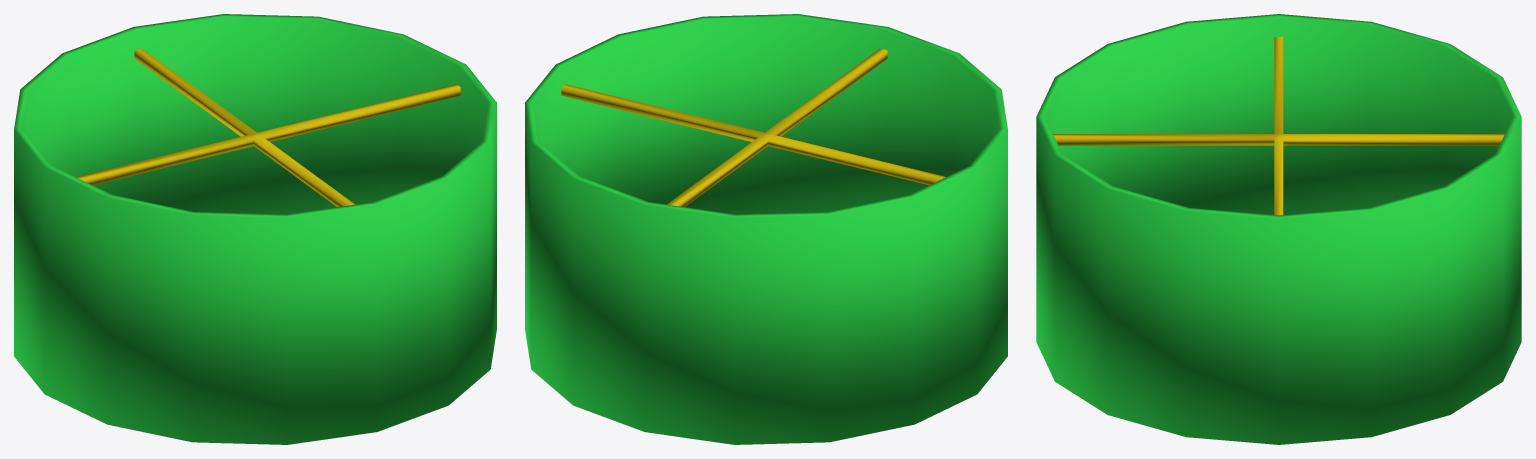
The model's file is MOD_LAM_Ceiling_lamp_02.fbx.
3 renders of one model, left to right at view 1: azimuth 30°, elevation 25°; view 2: azimuth 150°, elevation 25°; view 3: azimuth 270°, elevation 25°, orthographic.
Visible parts, largest first — view 1: HSHP_MOD_Ceiling_lamp_02; view 2: HSHP_MOD_Ceiling_lamp_02; view 3: HSHP_MOD_Ceiling_lamp_02.
Part boxes in pixels (left/top/right/bottom): HSHP_MOD_Ceiling_lamp_02: left=14, top=14, right=496, bottom=444; HSHP_MOD_Ceiling_lamp_02: left=525, top=14, right=1007, bottom=444; HSHP_MOD_Ceiling_lamp_02: left=1036, top=14, right=1521, bottom=444.
Size of the model in its own units: 0.5272 by 0.271 by 0.5272.
